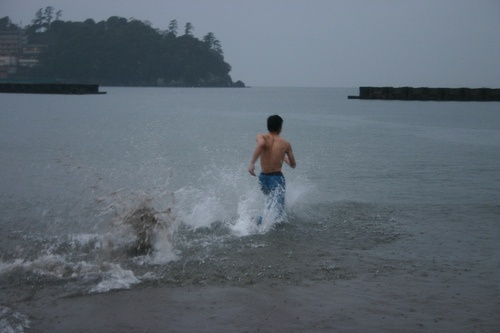head: (265, 113, 285, 141)
person: (246, 112, 294, 219)
